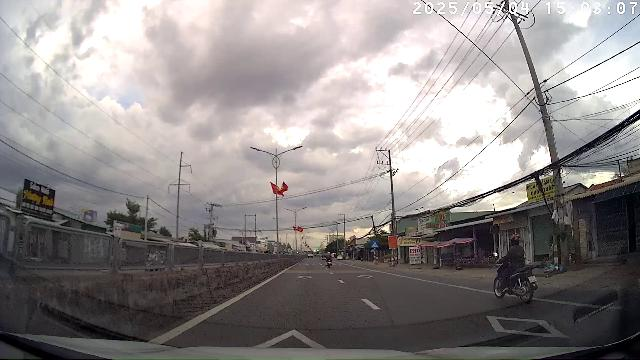423a-duong-nguoi-di-bo-sang-ngang-1: (371, 240, 379, 248)
